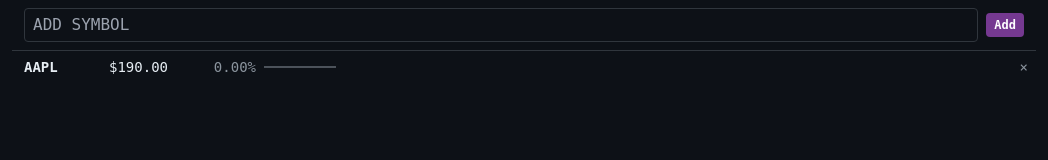
membership (checkpoint 12) › removes a symbol and stops rendering its streamed price
The image size is (1048, 160).
Check: the list item with test id "watchlist-row-AAPL" is shown, box [12,51,1036,83]
Click the button named "Remove AAPL": (1024,67) [1012,51,1036,83]
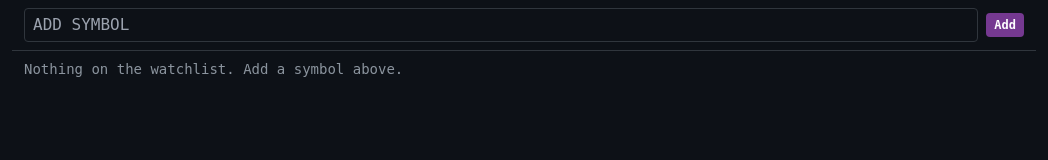
Check: the list item with test id "watchlist-row-AAPL" is gone
